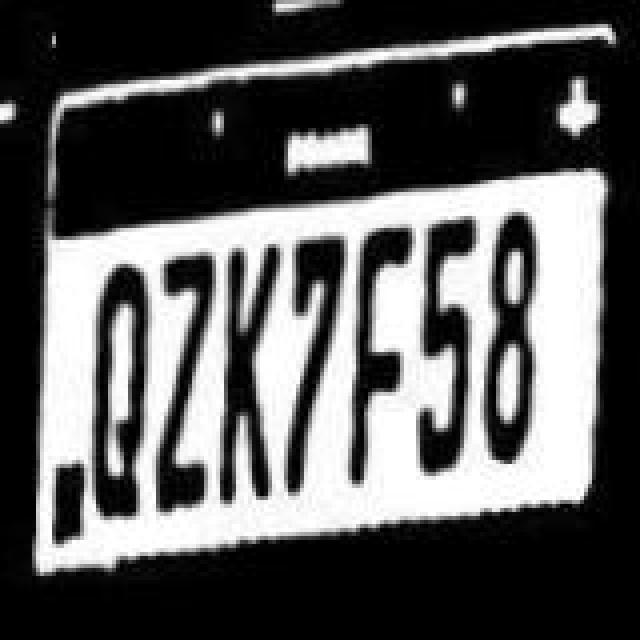5: (406, 206, 486, 478)
7: (270, 218, 354, 498)
8: (474, 200, 546, 472)
F: (338, 222, 422, 490)
K: (208, 228, 288, 508)
Q: (86, 250, 154, 514)
Z: (146, 240, 222, 516)
